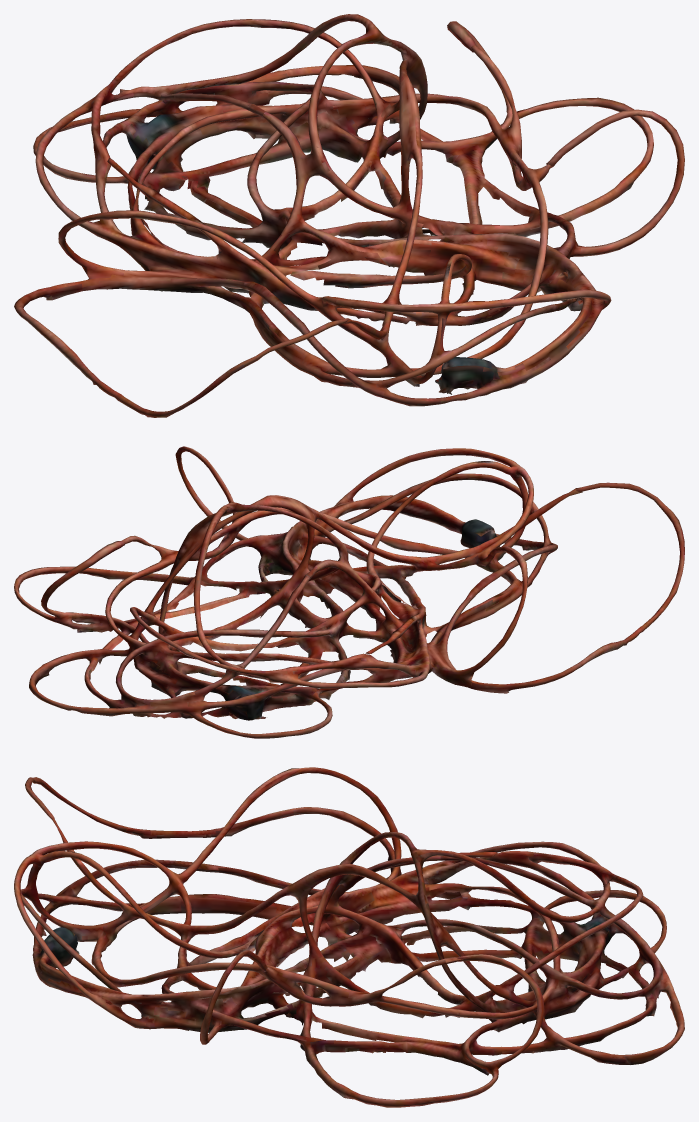
The model's file is extension_cord.glb.
The picture shows the model from 3 angles, top to bottom: view 1: azimuth 30°, elevation 25°; view 2: azimuth 150°, elevation 25°; view 3: azimuth 270°, elevation 25°; orthographic projection. The views are drawn at different scales.
Visible parts, largest first — view 1: ExtensionCord; view 2: ExtensionCord; view 3: ExtensionCord.
Boxes of the visible parts, box(x1,y1,x2,y2) form: ExtensionCord: box(14, 14, 684, 417); ExtensionCord: box(14, 446, 684, 738); ExtensionCord: box(14, 767, 684, 1107).
Size of the model in its own units: 1.38 by 0.3571 by 1.37.
Materials: 1 (1 with a texture image).
